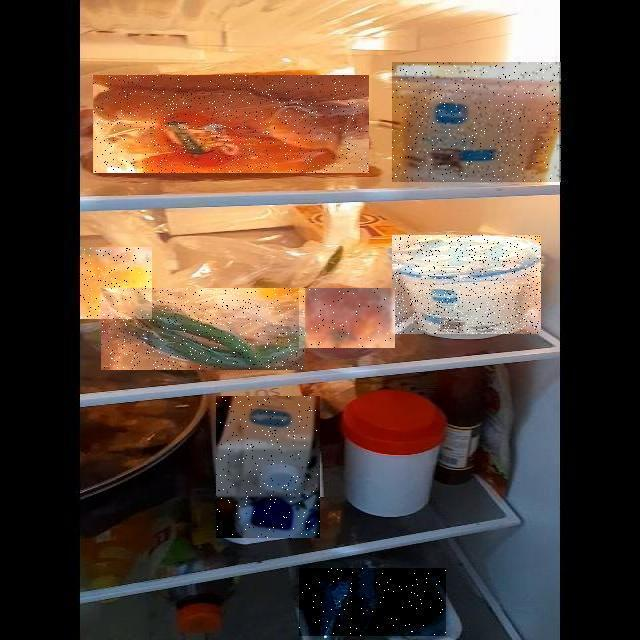Broccoli: (299, 568, 446, 636)
Carrot: (93, 75, 369, 173)
Chillies: (101, 288, 305, 370)
Lemon: (80, 247, 152, 319)
Milk: (216, 396, 320, 538)
Tomato Paste: (299, 288, 395, 348)
Yoghurt: (392, 62, 561, 182), (392, 235, 541, 334)
